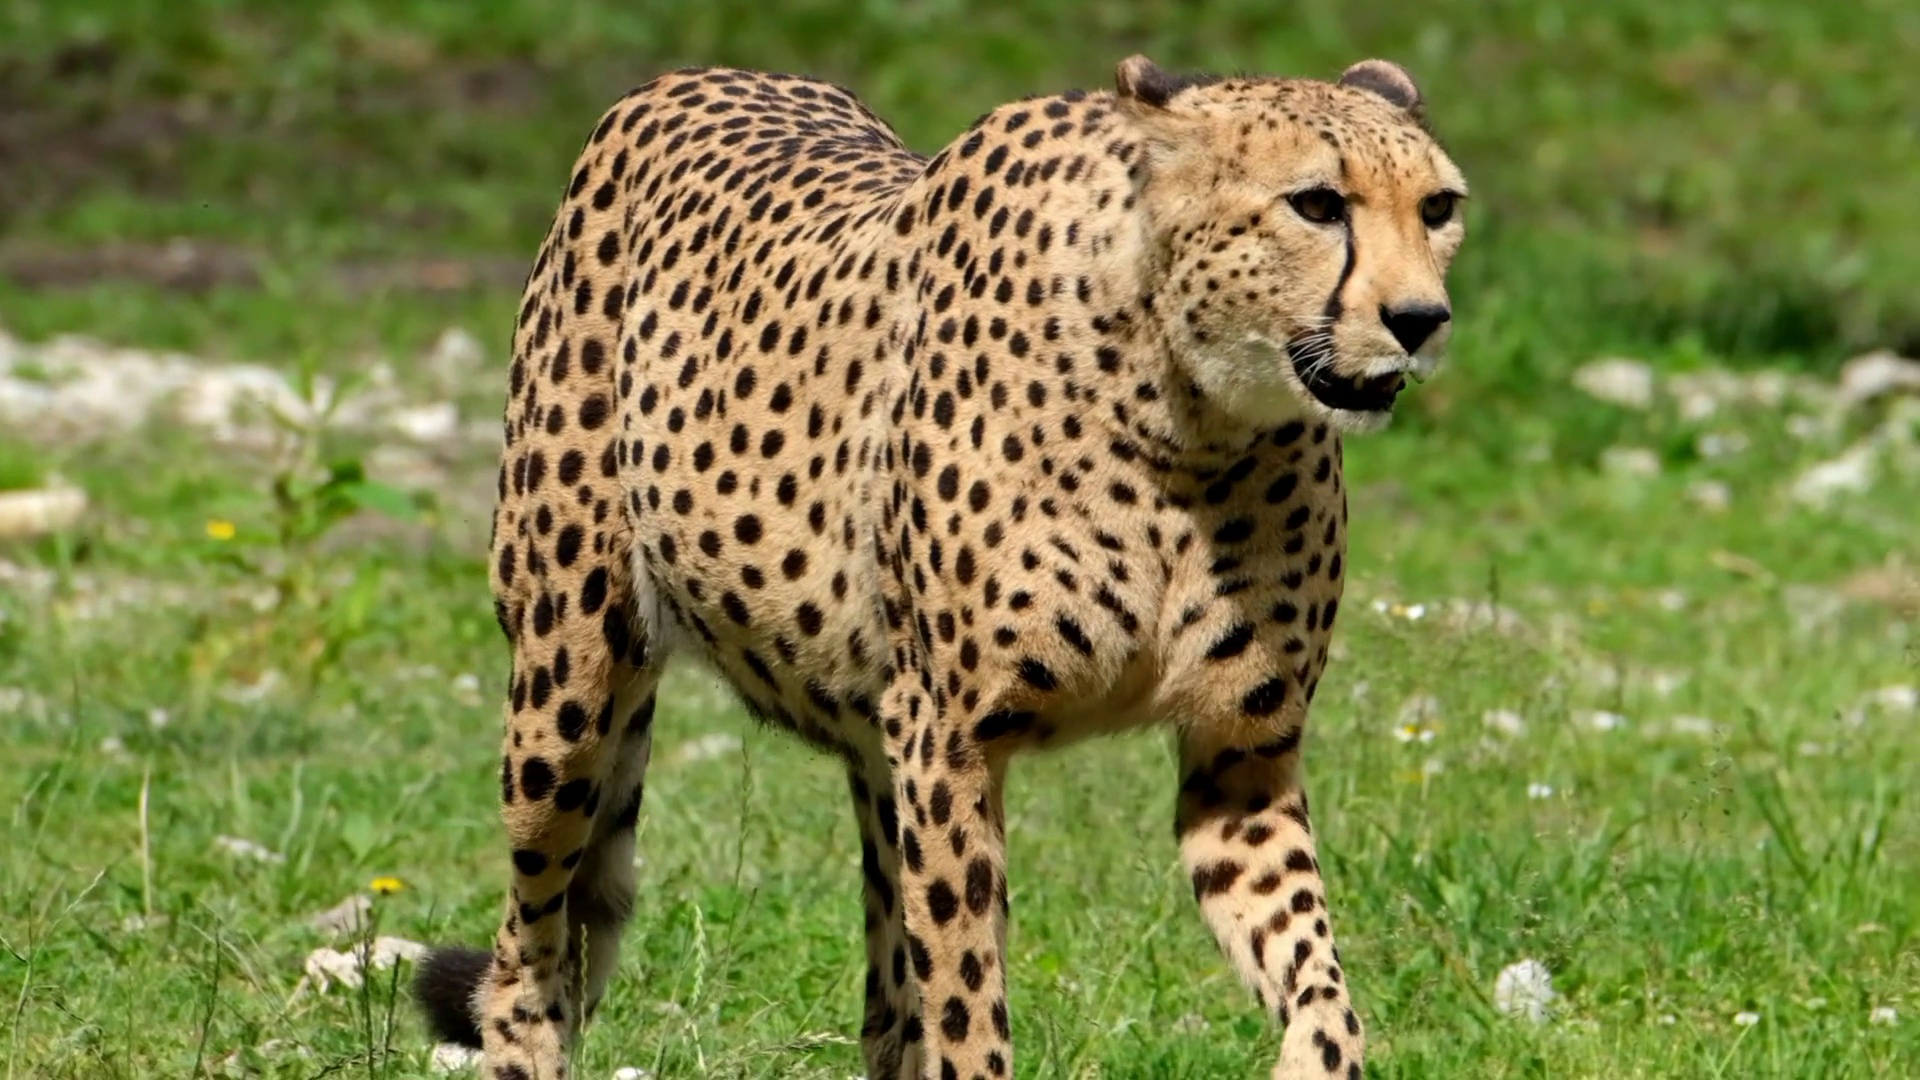Cheetah: (402, 51, 1477, 1080)
